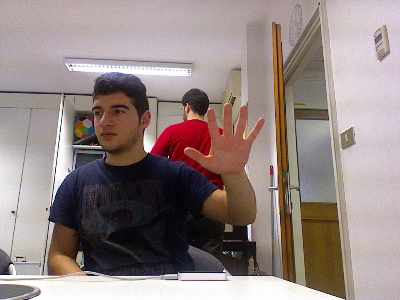布: (180, 100, 266, 176)
